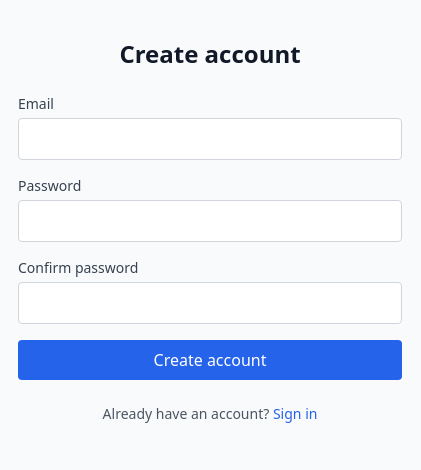
Test: RegisterPage › shows error when password has no uppercase letter
str0ng!pass#1 — lowercase + digit + special, no uppercase
Type "str0ng!pass#1" into the password field labelled "Password".
click(210, 221); type("str0ng!pass#1")  # box [18,200,402,242]
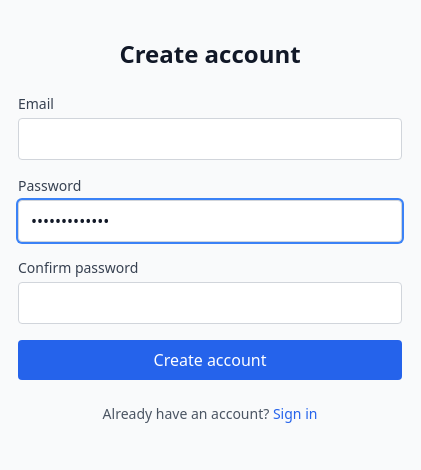
Click the button "Create account".
click(210, 360)  # box [18,340,402,380]
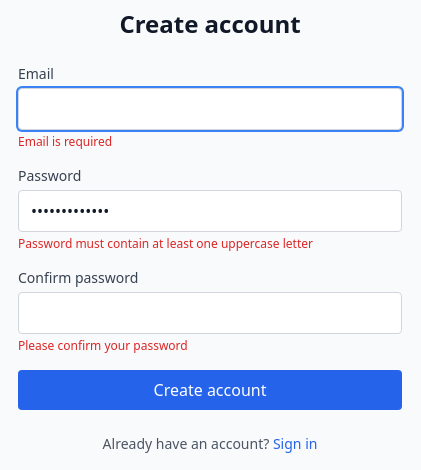
Expected: the text "Password must contain at least one uppercase letter" is shown, [18,235,313,252]
